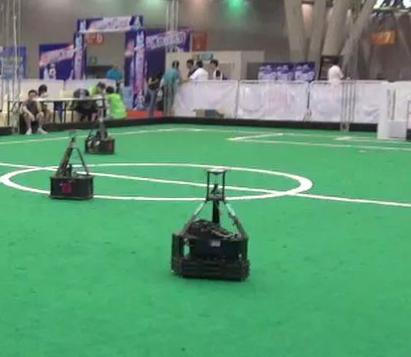robot: (168, 161, 253, 281), (46, 130, 94, 200)
